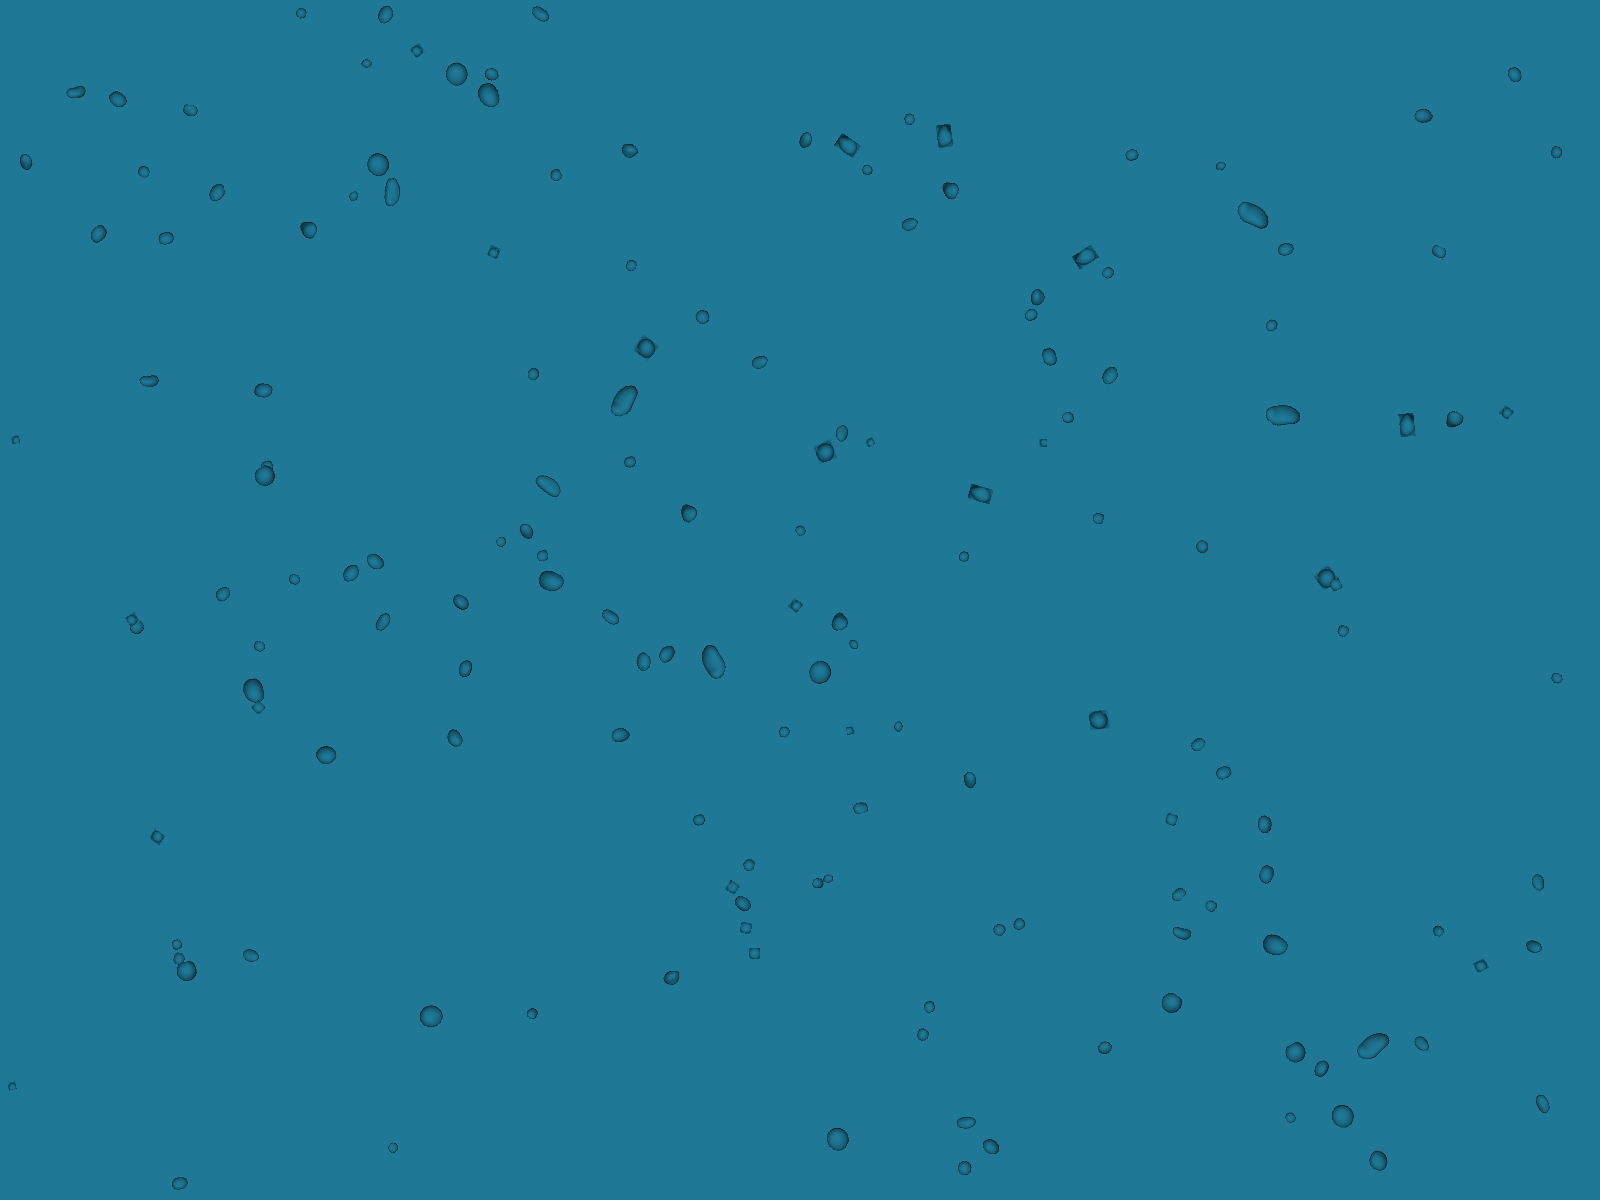drop: (1260, 393, 1306, 437), (1233, 193, 1272, 237), (602, 381, 646, 420), (695, 642, 731, 683), (414, 1000, 449, 1034), (440, 57, 474, 91), (362, 147, 396, 182), (530, 470, 568, 500), (1259, 929, 1293, 962), (534, 566, 568, 597), (821, 1123, 854, 1155), (1356, 1031, 1391, 1060), (805, 657, 837, 688), (1328, 1100, 1358, 1131), (311, 741, 341, 771), (1155, 988, 1186, 1018), (249, 463, 280, 492), (1280, 1039, 1310, 1068), (673, 497, 702, 526), (1311, 563, 1340, 592), (631, 333, 660, 362), (475, 79, 501, 111), (1439, 407, 1466, 435), (935, 175, 963, 203), (833, 132, 862, 159), (241, 676, 266, 706), (382, 175, 403, 211), (1364, 1147, 1391, 1175), (294, 216, 321, 242), (1167, 920, 1196, 945), (1071, 245, 1100, 270), (630, 649, 656, 676), (370, 609, 397, 635), (952, 1111, 980, 1136), (598, 604, 624, 632), (813, 437, 838, 465), (173, 959, 200, 984), (1524, 868, 1550, 895), (828, 420, 854, 445), (528, 1, 553, 28), (747, 350, 772, 376), (897, 213, 922, 238), (1252, 812, 1277, 837), (13, 149, 38, 174), (690, 305, 716, 329), (238, 944, 262, 969), (1410, 105, 1435, 129), (607, 724, 632, 747), (86, 222, 111, 246), (106, 87, 130, 112), (957, 766, 981, 792), (968, 483, 994, 505), (979, 1134, 1003, 1158), (443, 727, 467, 751), (373, 3, 397, 26), (617, 139, 641, 163), (1026, 286, 1049, 310), (729, 892, 755, 915), (1255, 862, 1277, 887), (449, 591, 472, 614), (168, 947, 191, 969), (828, 608, 850, 632), (1092, 1035, 1115, 1058), (1099, 364, 1121, 387), (364, 550, 387, 572), (205, 182, 228, 204), (1523, 935, 1546, 958), (794, 129, 816, 151), (1089, 708, 1111, 731), (1532, 1092, 1553, 1116), (210, 584, 234, 605), (136, 371, 161, 391), (126, 616, 147, 639), (1546, 141, 1569, 163), (1009, 913, 1031, 935), (1311, 1058, 1332, 1082), (935, 124, 954, 149), (340, 562, 362, 584), (515, 521, 537, 542), (1168, 884, 1189, 905), (954, 1158, 976, 1179), (1398, 412, 1416, 437), (481, 62, 501, 83), (1099, 262, 1119, 284), (1188, 734, 1208, 755), (252, 381, 275, 400), (656, 645, 677, 666), (1199, 896, 1220, 916), (1427, 921, 1448, 942), (1041, 345, 1058, 368), (1411, 1034, 1430, 1054), (1020, 305, 1041, 324), (661, 969, 682, 988), (1334, 623, 1354, 642), (64, 84, 87, 101), (383, 1139, 402, 1158), (491, 533, 510, 552), (1060, 408, 1078, 427), (134, 163, 152, 182), (920, 997, 939, 1016), (546, 166, 564, 185), (738, 855, 757, 874), (522, 1003, 540, 1022), (1506, 64, 1523, 84), (1429, 243, 1449, 261), (792, 522, 810, 541), (1283, 1109, 1300, 1128), (1089, 511, 1106, 529), (533, 548, 551, 567), (1471, 957, 1490, 974), (147, 828, 166, 846), (775, 722, 792, 741), (249, 638, 268, 655), (1213, 765, 1233, 782), (459, 658, 474, 679), (1264, 316, 1281, 334), (913, 1026, 931, 1044), (692, 811, 708, 829), (285, 571, 304, 587), (901, 110, 917, 129), (850, 800, 871, 816), (1123, 146, 1140, 163), (990, 921, 1008, 938), (258, 458, 275, 475), (123, 611, 141, 628), (409, 42, 426, 59), (1498, 405, 1516, 421), (249, 700, 267, 716), (724, 879, 741, 896), (624, 453, 639, 471), (156, 231, 175, 246), (181, 103, 200, 118), (787, 597, 804, 614), (1276, 242, 1294, 257), (170, 1176, 188, 1191), (624, 256, 639, 274), (1328, 577, 1344, 592), (1548, 671, 1565, 686), (811, 874, 826, 890), (359, 55, 375, 71), (889, 718, 906, 734), (486, 245, 501, 260), (1164, 812, 1179, 827), (346, 188, 362, 203), (527, 366, 540, 381), (170, 937, 185, 950), (294, 5, 307, 20), (860, 163, 876, 176), (821, 871, 837, 885), (1196, 539, 1209, 553), (740, 921, 753, 935), (957, 550, 970, 563), (748, 947, 761, 961), (1214, 159, 1228, 171), (848, 638, 860, 650), (864, 436, 876, 447), (10, 434, 21, 445), (1038, 437, 1048, 447), (8, 1082, 16, 1092), (847, 726, 855, 735)
